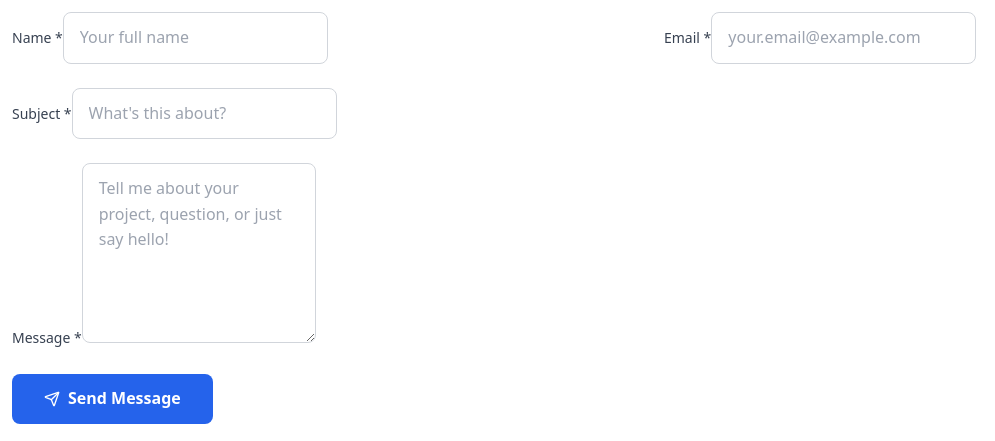
Test case: ContactForm › shows loading state during submission
This screenshot has width=995, height=441.
Fill out form with valid data
Type "John Doe" into the field labelled "Name *" at point(195, 38), box [63,12,328,64]
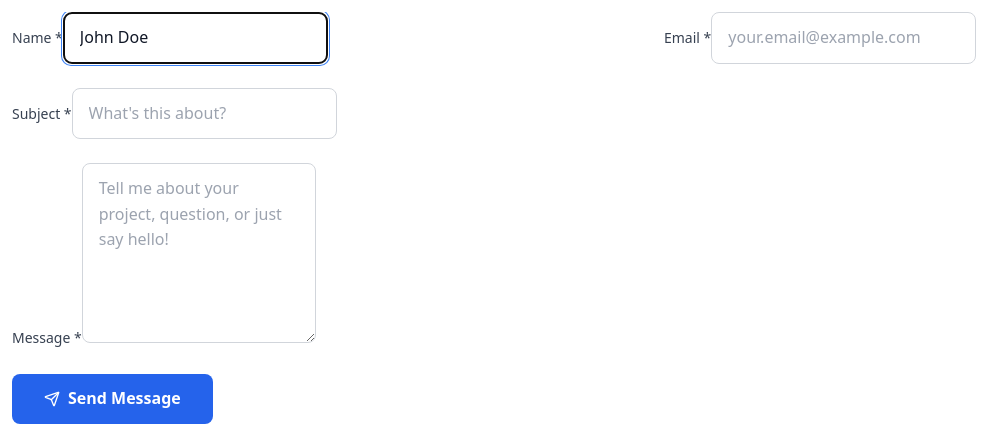
Type "john@example.com" into the field labelled "Email *" at point(844, 38), box [711,12,976,64]
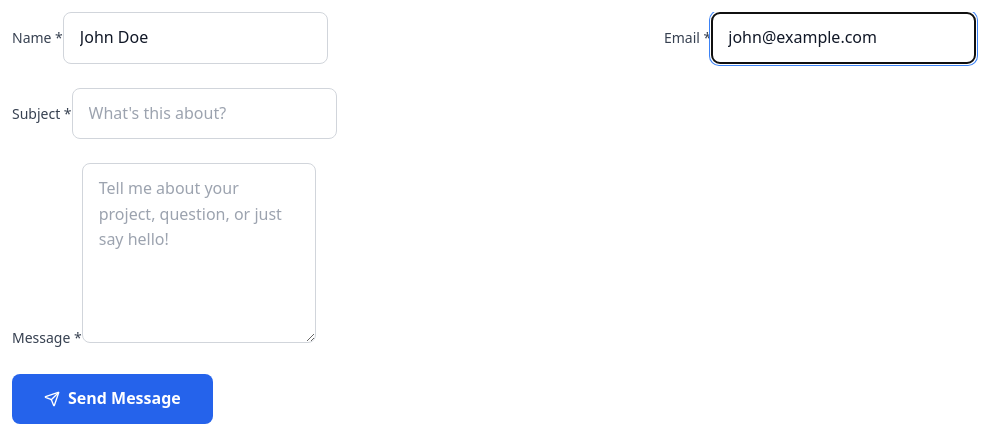
Type "Test Subject" into the field labelled "Subject *" at point(204, 113), box [72,88,337,139]
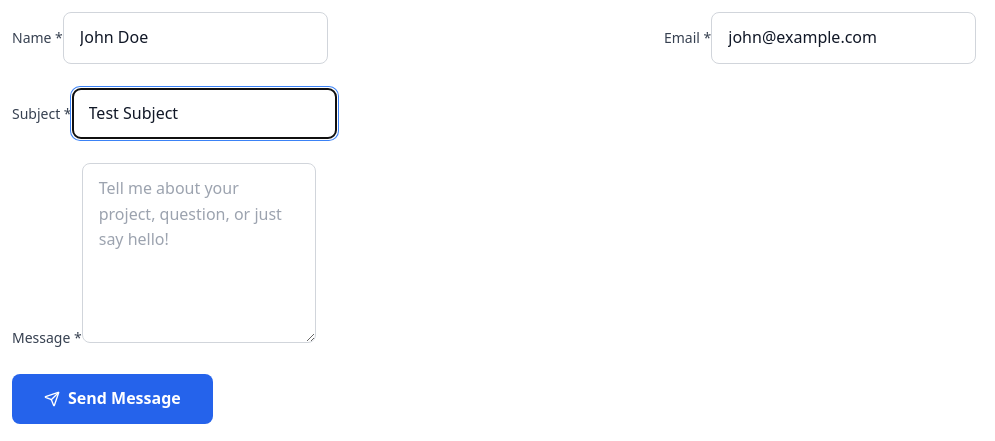
Type "Test message here" into the text box labelled "Message *" at point(199, 253), box [82,163,316,343]
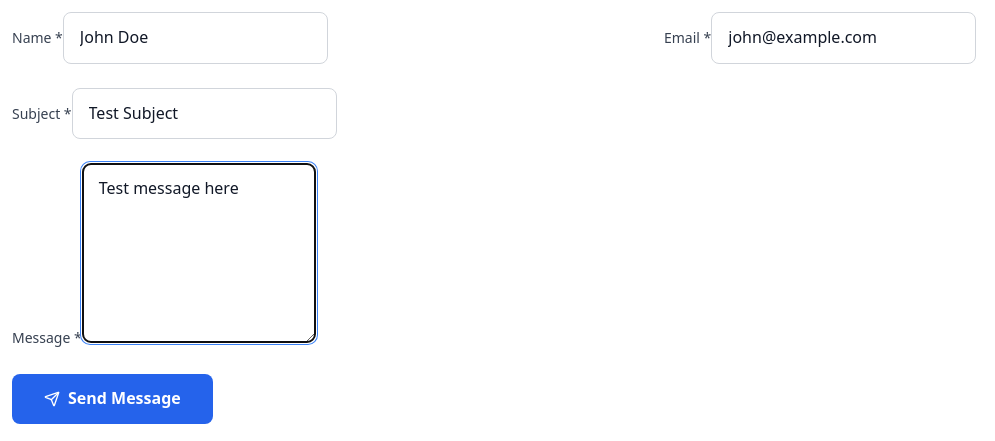
Click the button "Send Message" at point(112, 399), box [12,374,213,424]
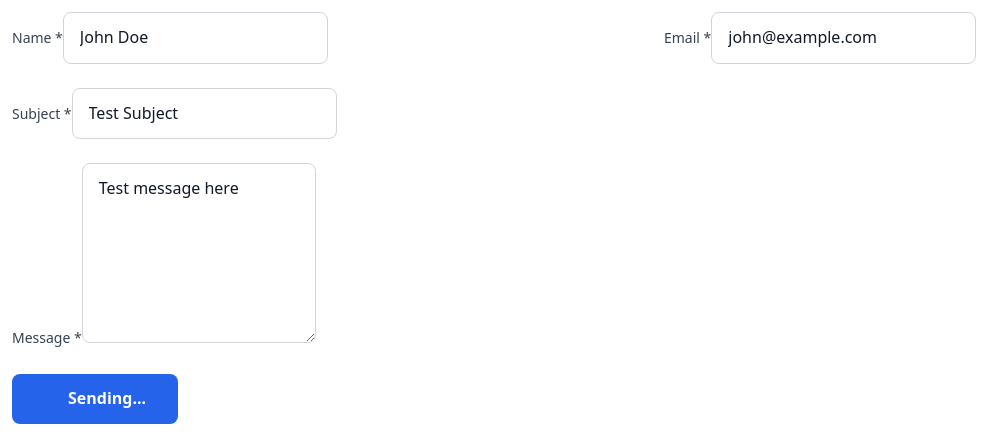
Expected: the button "Sending..." is disabled, [12,374,178,424]
